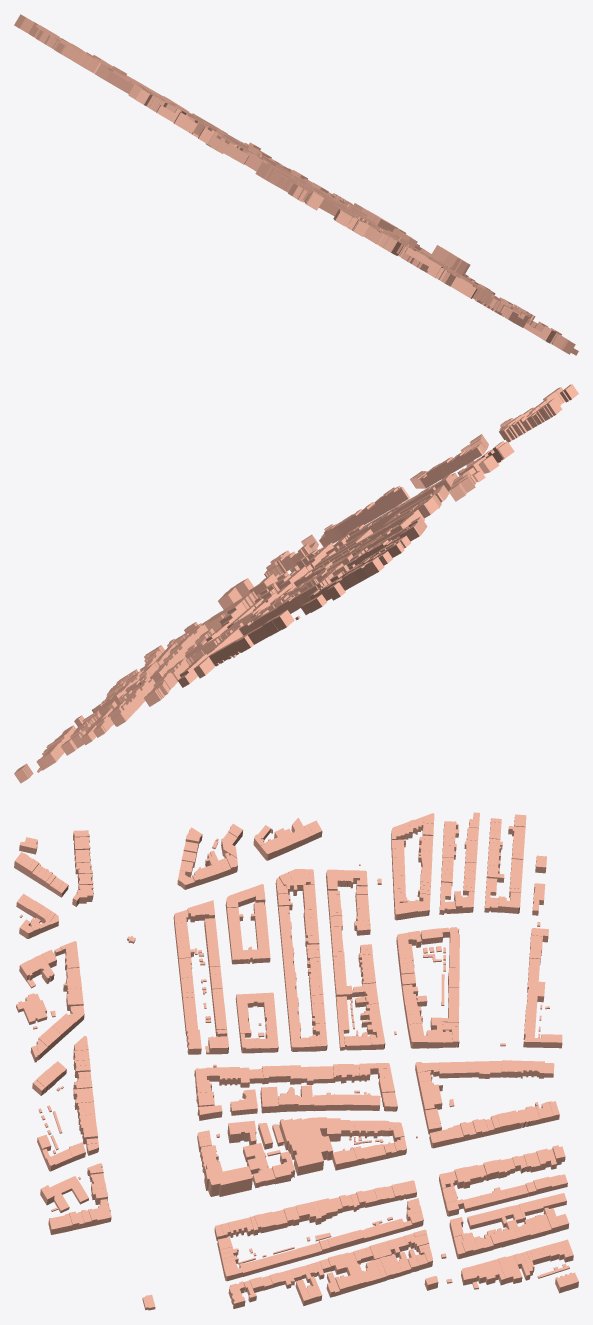
The picture shows the model from 3 angles, top to bottom: view 1: azimuth 30°, elevation 25°; view 2: azimuth 150°, elevation 25°; view 3: azimuth 270°, elevation 25°; orthographic projection. The views are drawn at different scales.
Size of the model in its own units: 523 by 395 by 648.
